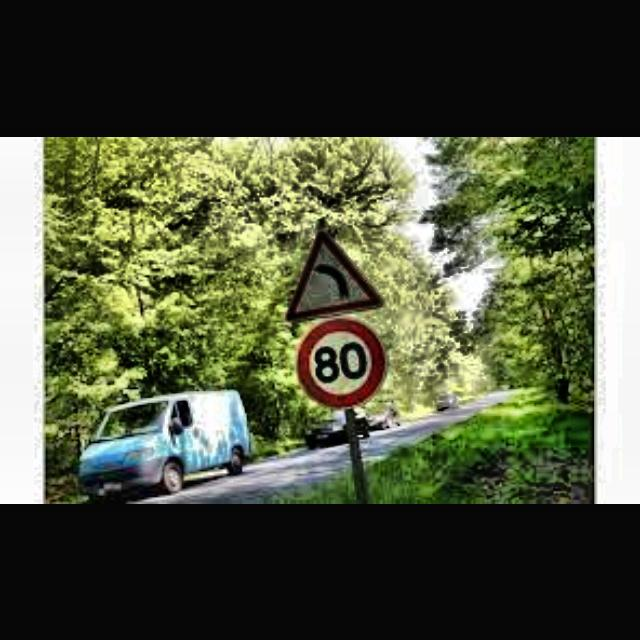speed_80: (294, 316, 390, 408)
